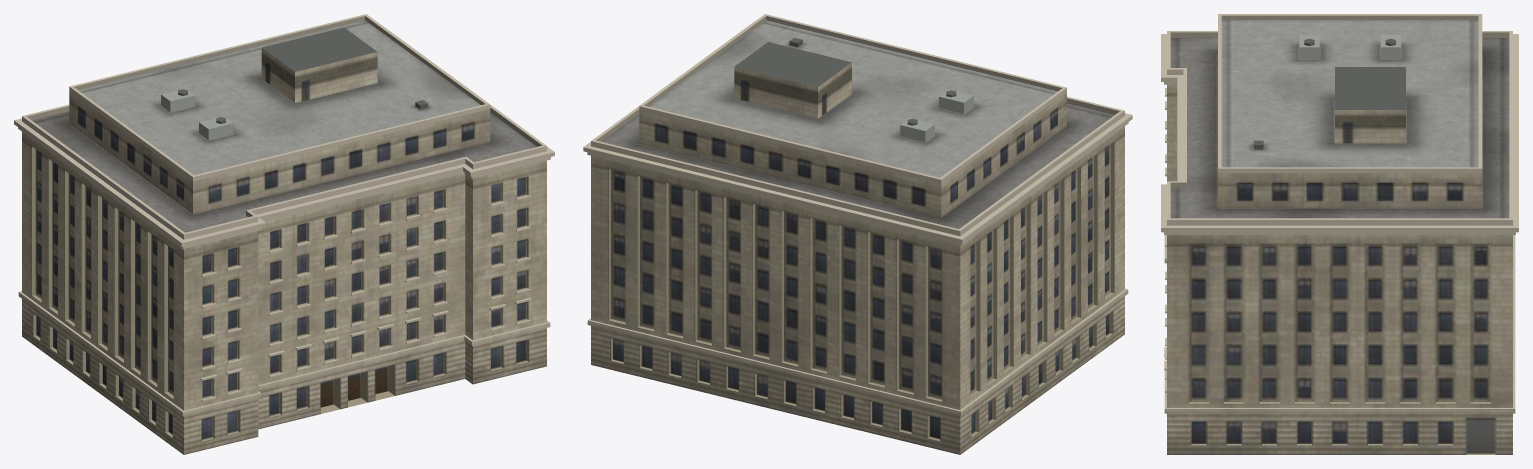
File: dc_fed_plain_c.glb
3 renders of one model, left to right at view 1: azimuth 30°, elevation 25°; view 2: azimuth 150°, elevation 25°; view 3: azimuth 270°, elevation 25°, orthographic. The views are drawn at different scales.
Visible parts, largest first — view 1: dc_fed_plain_c; view 2: dc_fed_plain_c; view 3: dc_fed_plain_c.
Boxes of the visible parts, x1,y1,x2,y2 form: dc_fed_plain_c: (14,14,554,454); dc_fed_plain_c: (583,14,1132,454); dc_fed_plain_c: (1161,14,1518,454).
Size of the model in its own units: 45.2 by 32.3 by 35.2.
Materials: 1 (1 with a texture image).
